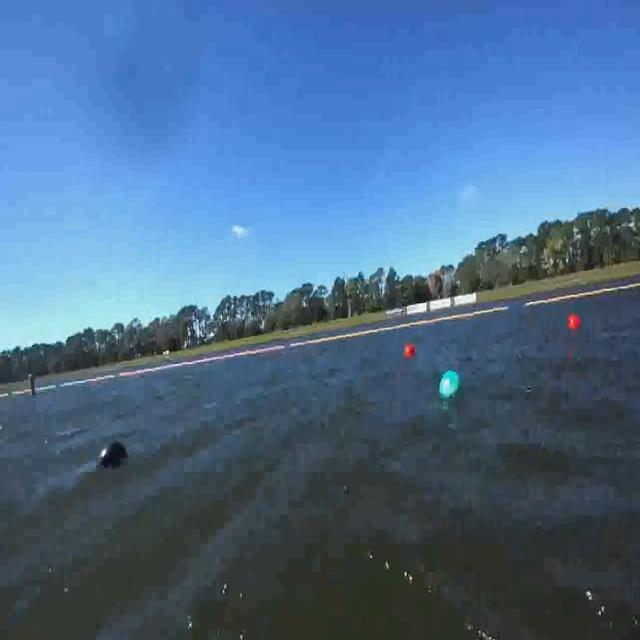black-buoy: (95, 435, 128, 469)
green-buoy: (441, 370, 463, 400)
red-buoy: (568, 314, 580, 329), (406, 345, 417, 359)
